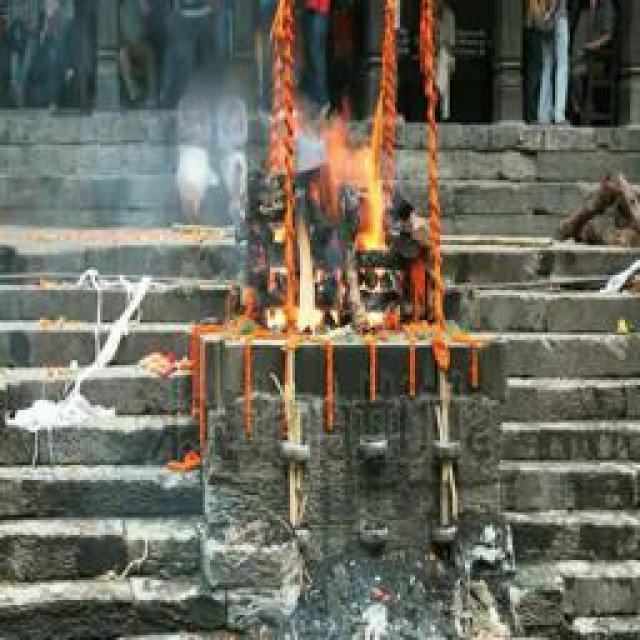Fire: (284, 93, 389, 337)
